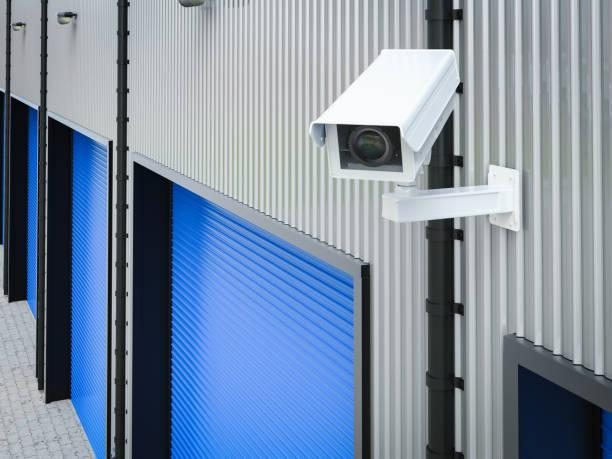camera: (288, 33, 485, 253)
